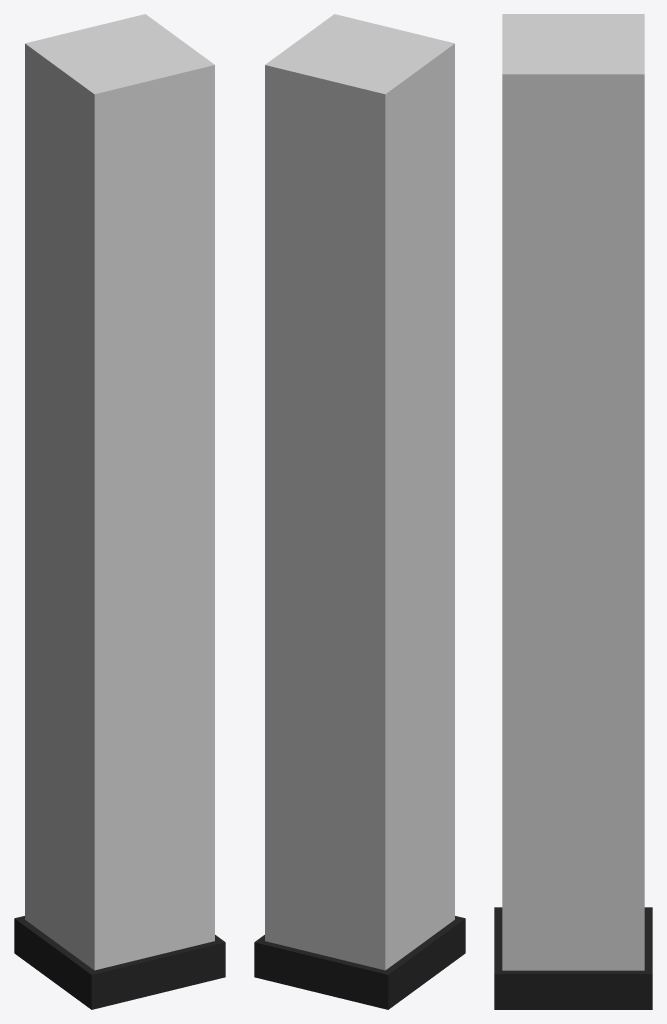
Rendered from column_01.glb.
The picture shows the model from 3 angles, left to right: view 1: azimuth 30°, elevation 25°; view 2: azimuth 150°, elevation 25°; view 3: azimuth 270°, elevation 25°; orthographic projection. The views are drawn at different scales.
Parts seen in each view (by area): view 1: Untitled; view 2: Untitled; view 3: Untitled.
Part boxes in pixels (bbox=[...]): Untitled: bbox=[14, 14, 225, 1009]; Untitled: bbox=[254, 14, 465, 1009]; Untitled: bbox=[494, 14, 652, 1009].
Size of the model in its own units: 0.6 by 3.9 by 0.6.
1 material, 1 textured.
